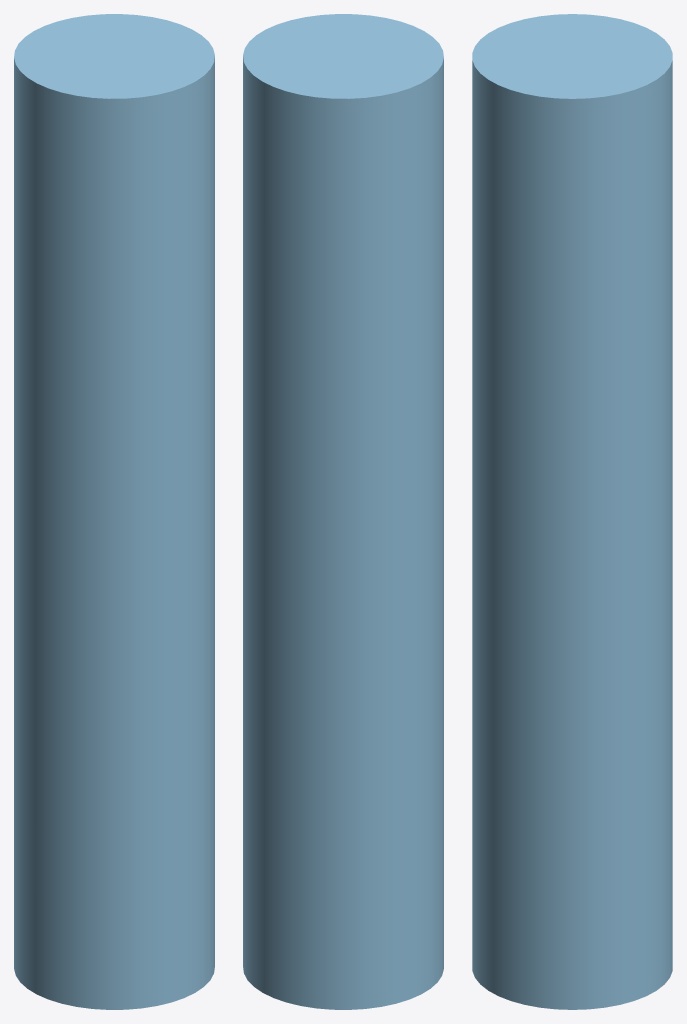
The picture shows the model from 3 angles, left to right: view 1: azimuth 30°, elevation 25°; view 2: azimuth 150°, elevation 25°; view 3: azimuth 270°, elevation 25°; orthographic projection.
Visible parts, largest first — view 1: ID2; view 2: ID2; view 3: ID2.
Boxes of the visible parts, x1,y1,x2,y2 form: ID2: (14,14,214,1009); ID2: (243,14,443,1009); ID2: (472,14,672,1009).
Size of the model in its own units: 0.001 by 0.000997 by 0.005.
